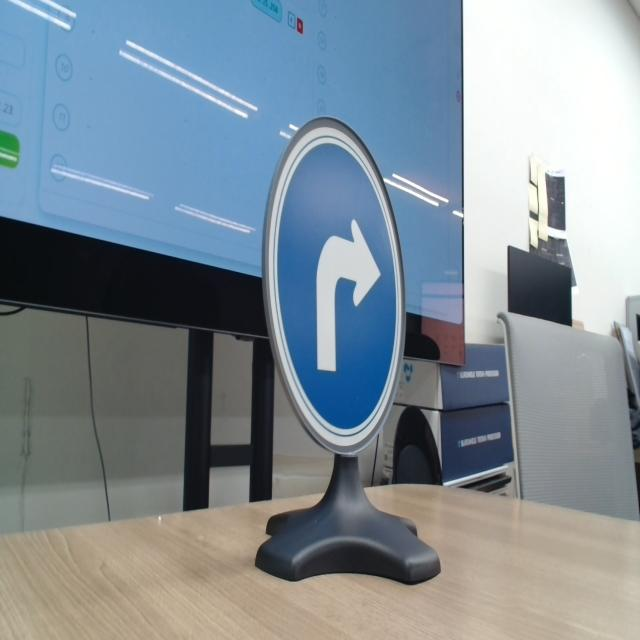right_dierection: (261, 106, 408, 459)
